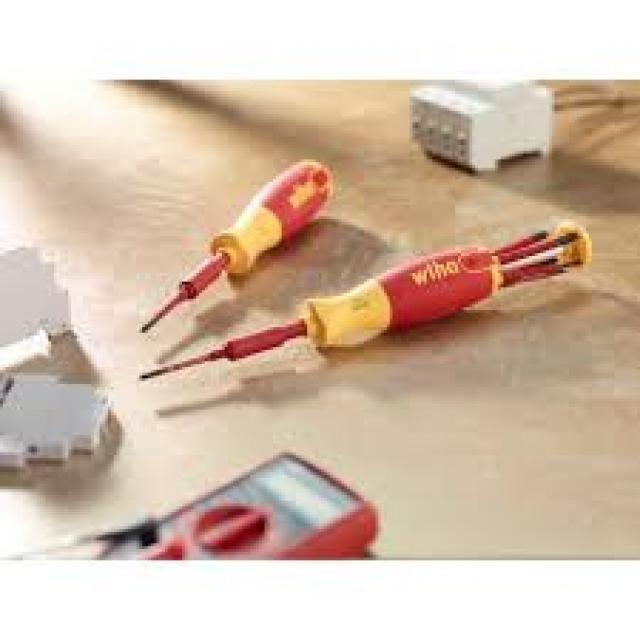screwdriver: (132, 218, 596, 390), (134, 152, 338, 346)
